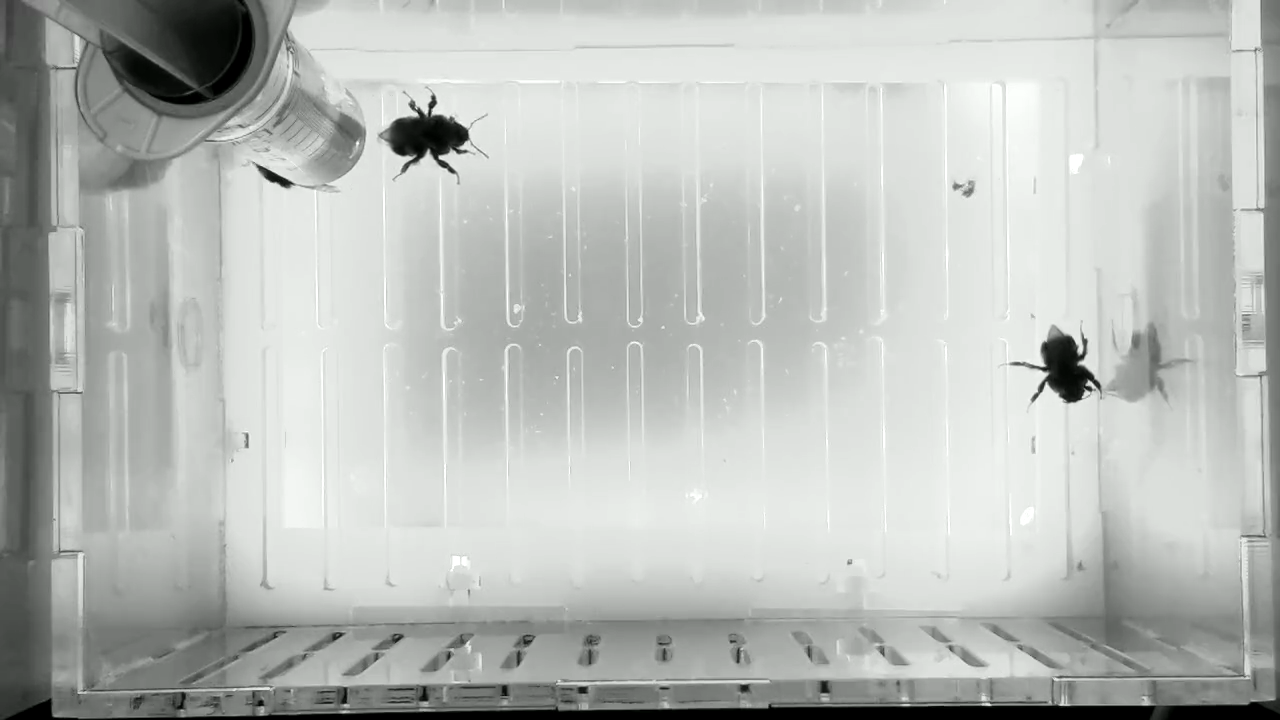bee_alive: (373, 81, 493, 189), (999, 316, 1104, 420), (241, 153, 348, 200)
feeder: (225, 35, 367, 186)
